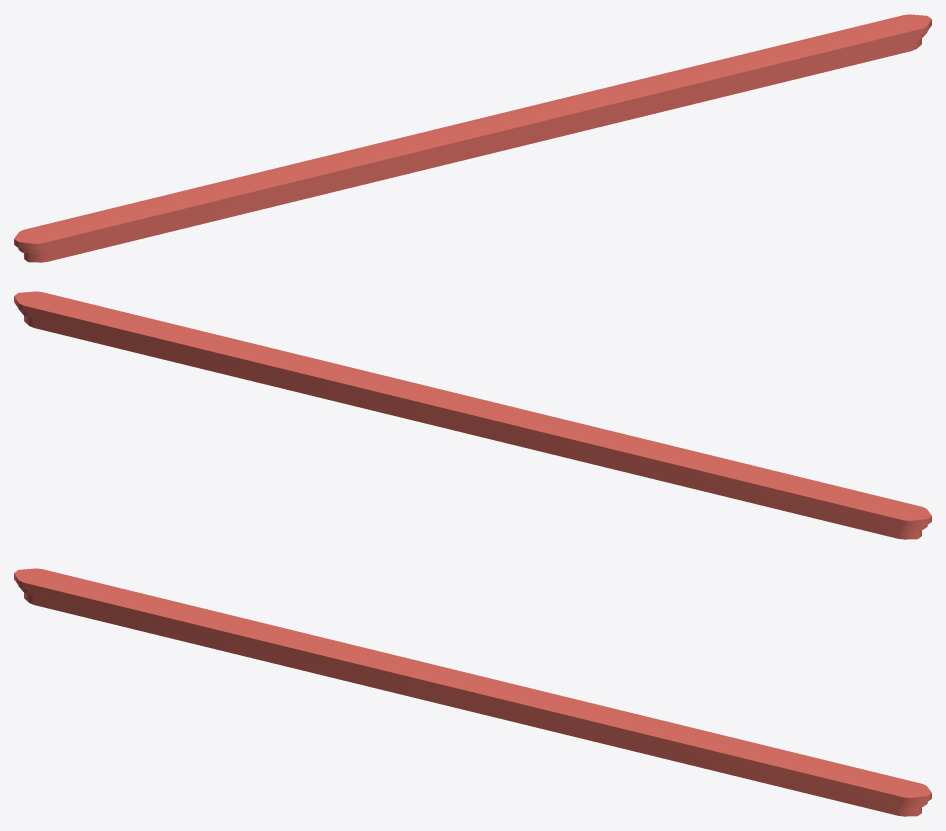
The model's file is Balken lang Quer.fbx.
The picture shows the model from 3 angles, top to bottom: view 1: azimuth 30°, elevation 25°; view 2: azimuth 150°, elevation 25°; view 3: azimuth 330°, elevation 25°; orthographic projection.
Parts seen in each view (by area): view 1: Balken Quer lang.008; view 2: Balken Quer lang.008; view 3: Balken Quer lang.008.
Boxes of the visible parts, x1,y1,x2,y2 form: Balken Quer lang.008: (14,14,931,262); Balken Quer lang.008: (14,291,931,539); Balken Quer lang.008: (14,568,931,816).
Bounding box in the file's own units: 1530 × 36.19 × 53.78.
